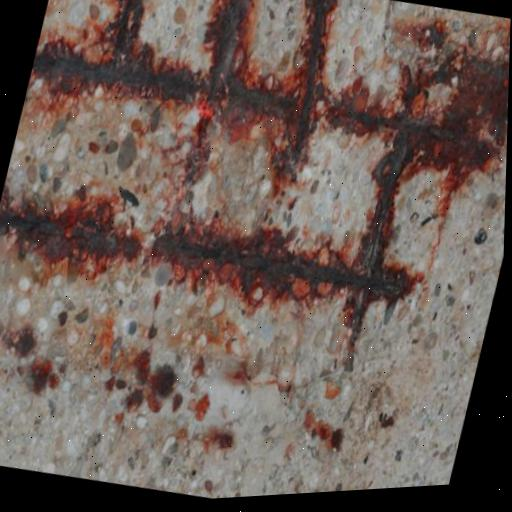exposed_rebar: (152, 118, 440, 303), (31, 0, 330, 162), (86, 217, 139, 259), (10, 213, 60, 244), (327, 107, 375, 130)
